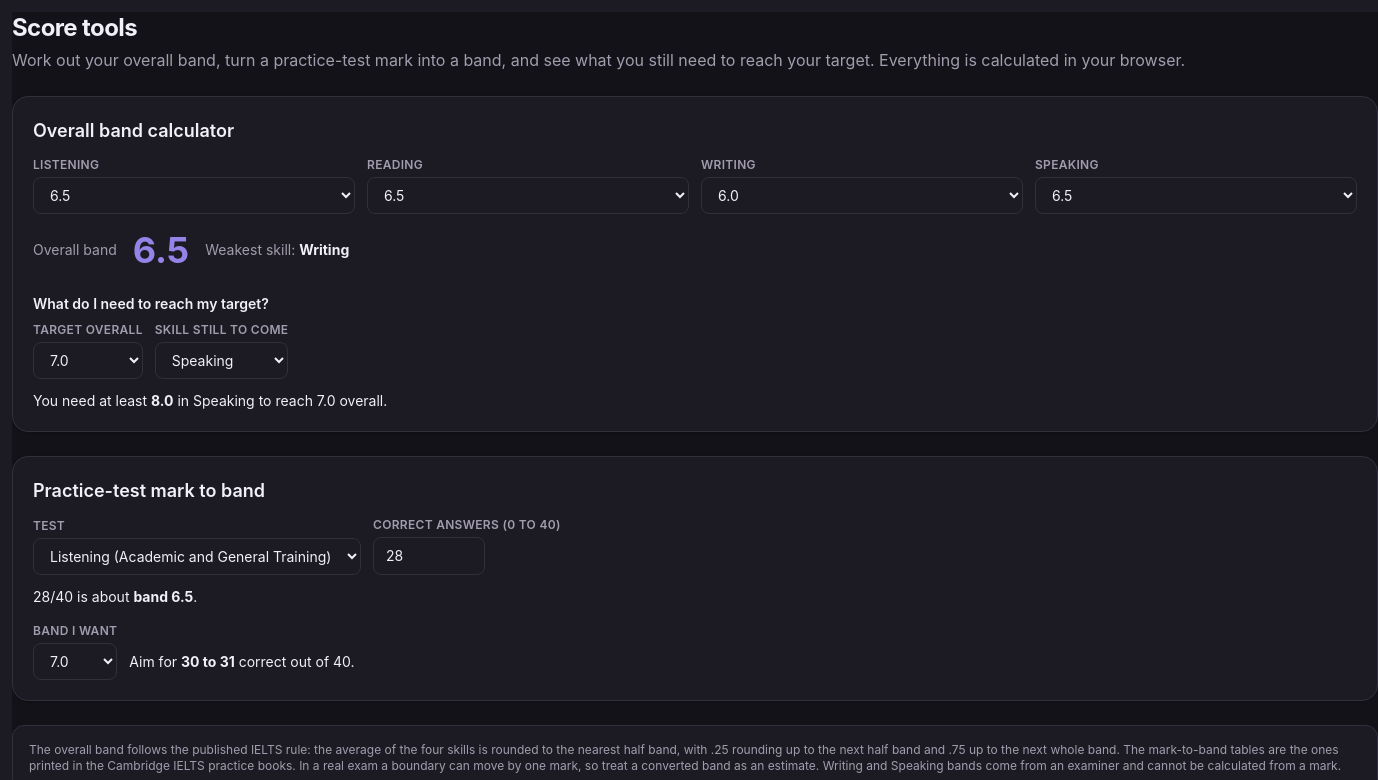
ScoreTools › says what is needed in the remaining skill
Select "Speaking" in the dropdown labelled "Skill still to come" at (222, 360), box top-left (155, 342), bottom-right (288, 379)
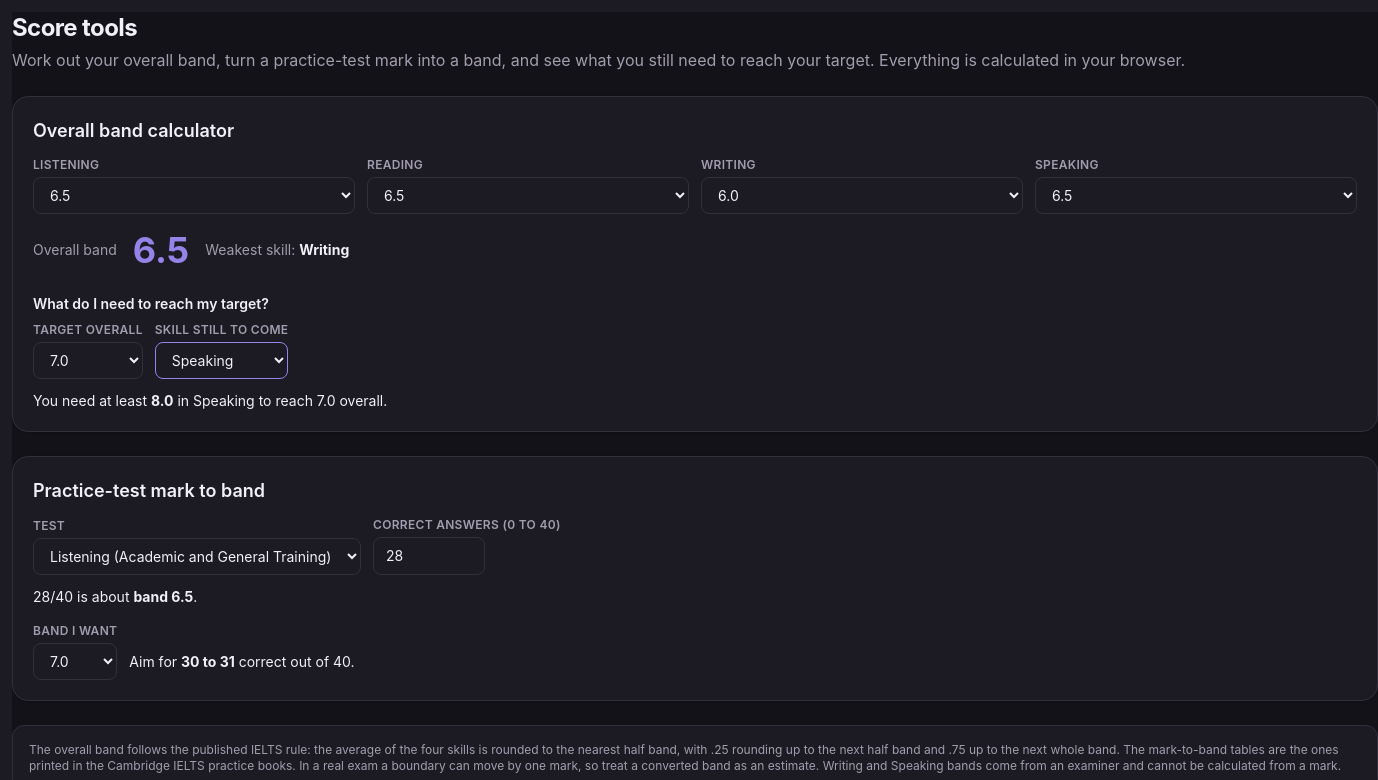
Expected: the element with test id "needed" shows "at least", top-left (33, 392), bottom-right (151, 409)
Select "9.0" in the dropdown labelled "Target overall" at (88, 360), box top-left (33, 342), bottom-right (143, 379)
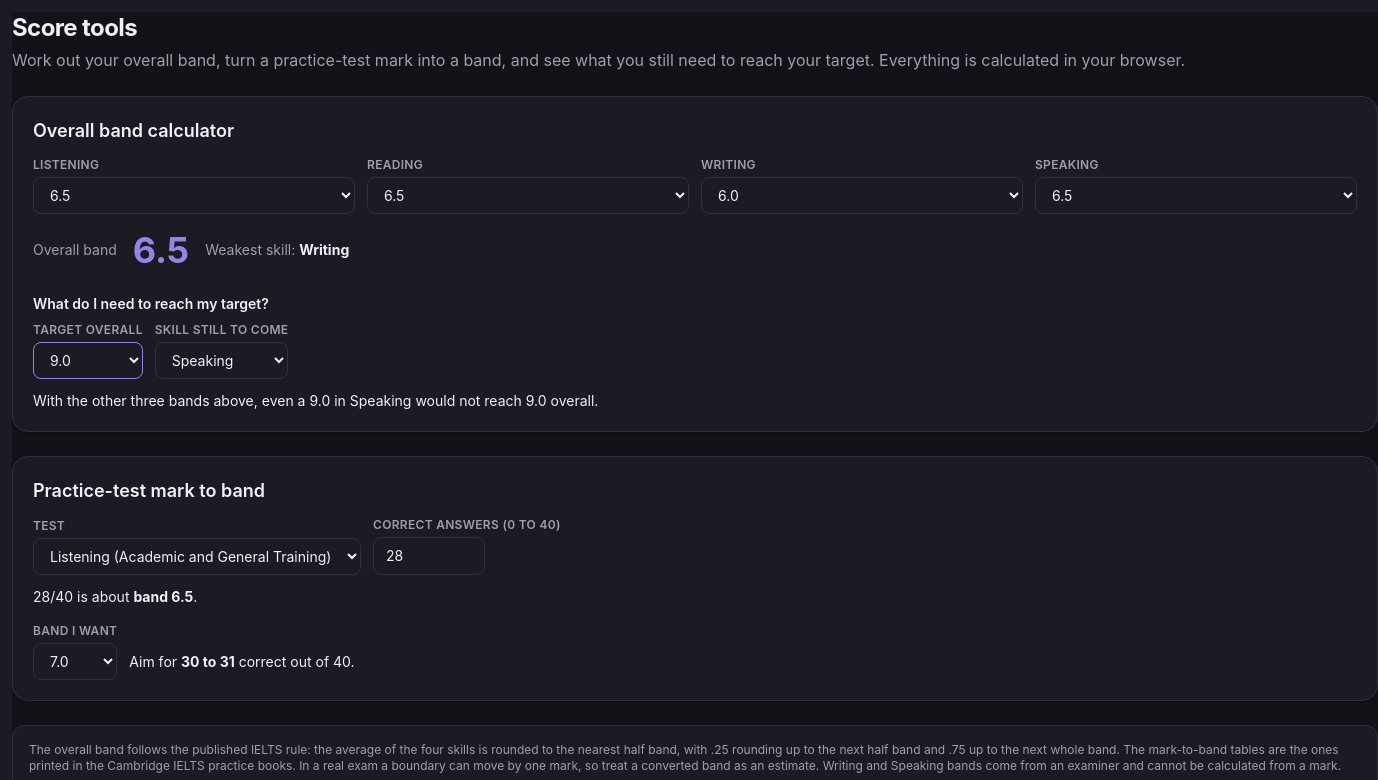
Now the text with test id "needed" shows "would not reach 9.0", box top-left (33, 392), bottom-right (598, 409)
